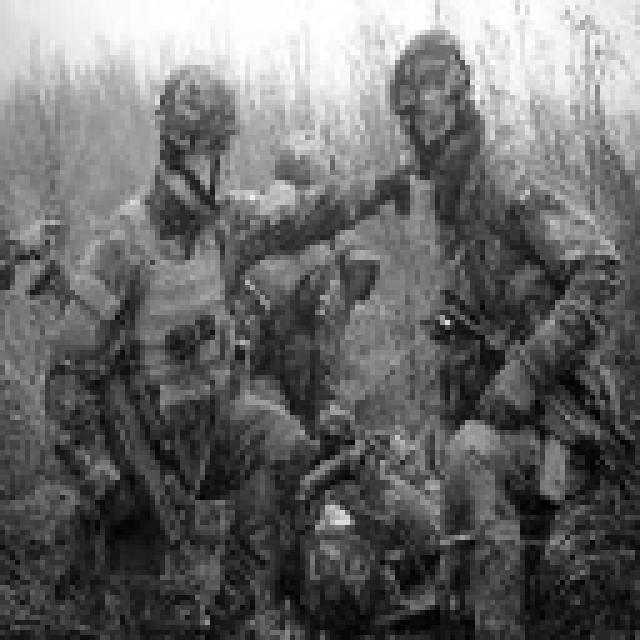Rifle: (417, 276, 640, 521), (66, 332, 238, 588)
